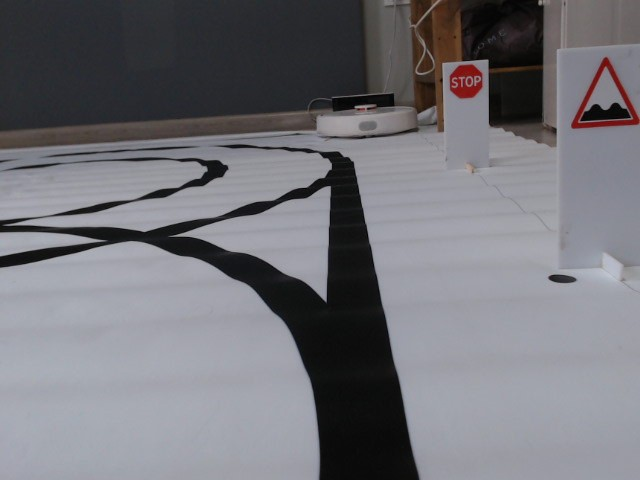Nerov: (569, 56, 639, 133)
